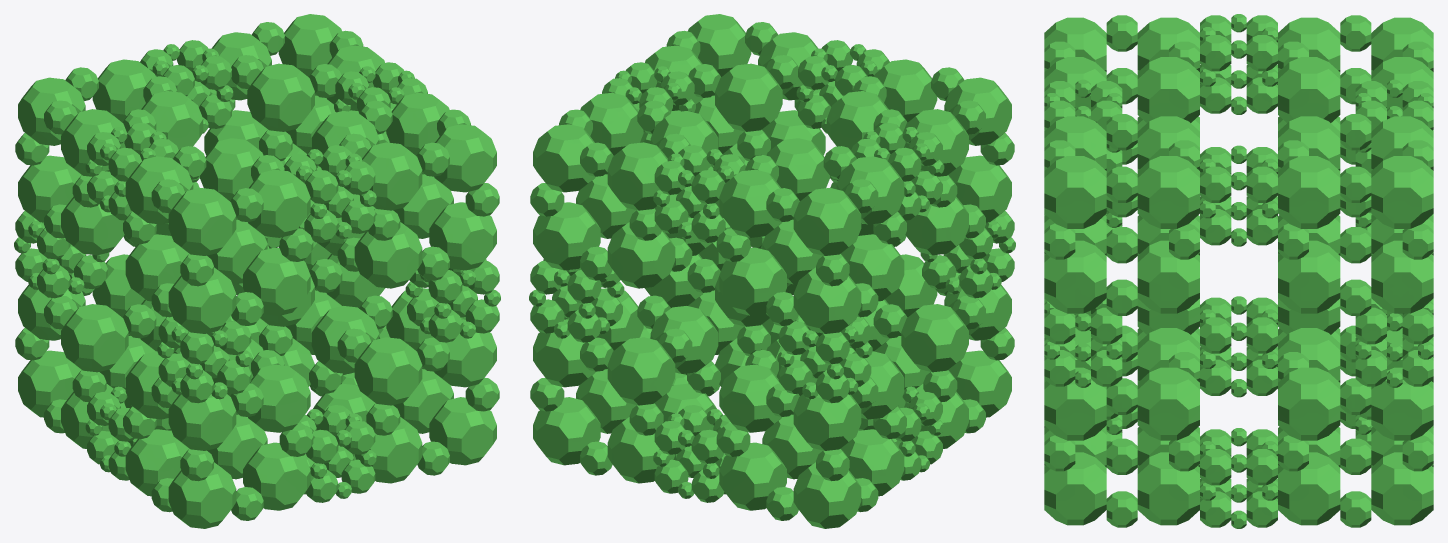
Rendered from fractaltruncatedcuboctahedron2-2.glb.
3 views of the same model, side by side, from view 1: azimuth 30°, elevation 25°; view 2: azimuth 150°, elevation 25°; view 3: azimuth 270°, elevation 25° (orthographic). The views are drawn at different scales.
Size of the model in its own units: 7.2 by 7.2 by 7.2.
